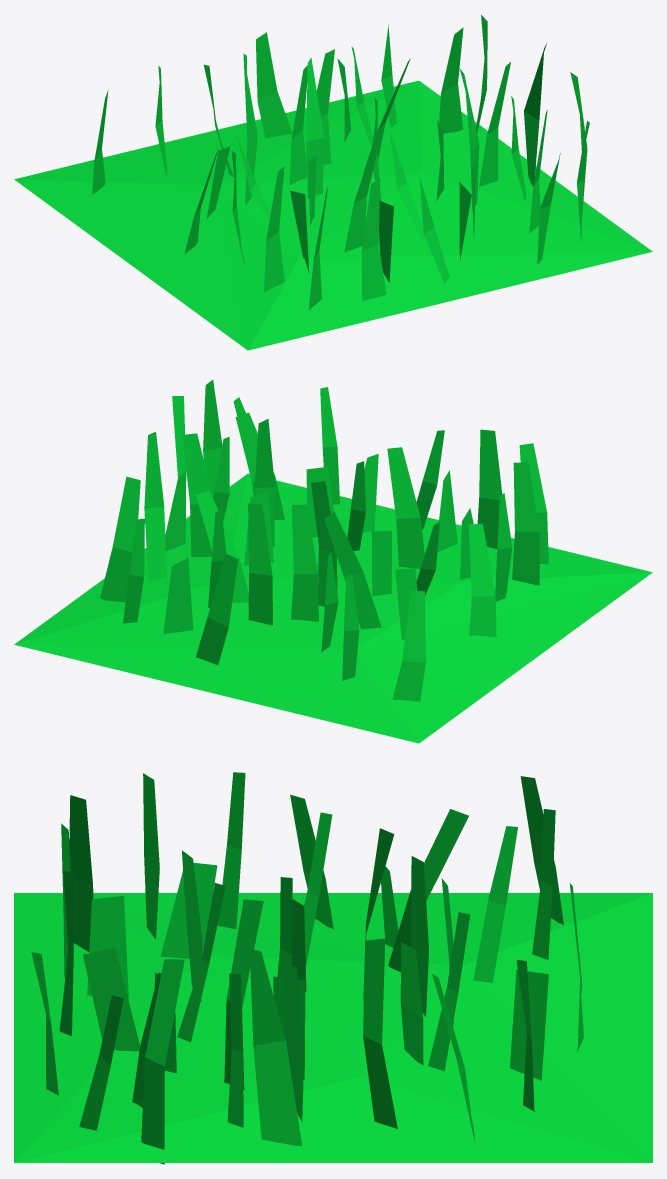
File: Grass2.fbx
3 renders of one model, top to bottom at view 1: azimuth 30°, elevation 25°; view 2: azimuth 150°, elevation 25°; view 3: azimuth 270°, elevation 25°, orthographic. The views are drawn at different scales.
Parts seen in each view (by area): view 1: Grass2; view 2: Grass2; view 3: Grass2.
Part boxes in pixels (bbox=[...]): Grass2: bbox=[14, 15, 652, 350]; Grass2: bbox=[14, 380, 652, 743]; Grass2: bbox=[14, 772, 652, 1164].
Size of the model in its own units: 100 by 37.56 by 100.
